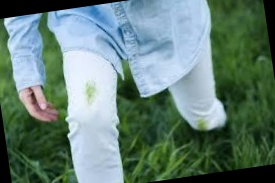earth: (85, 81, 98, 104), (195, 117, 209, 130)
